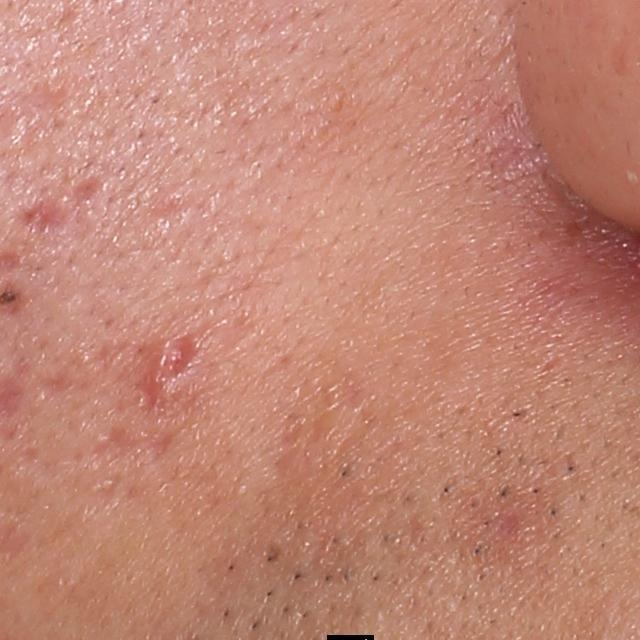atrophic_scar: (17, 191, 79, 235), (161, 325, 204, 384), (91, 418, 142, 463), (139, 423, 183, 461), (70, 169, 107, 204)
